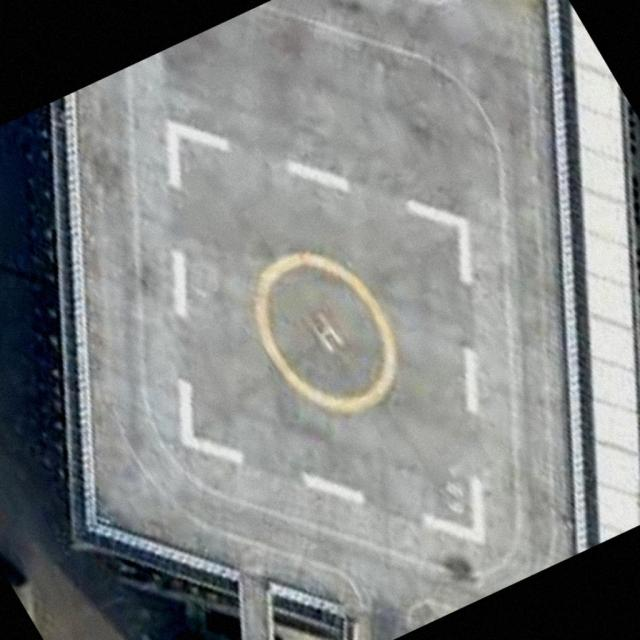helipad: (246, 248, 399, 416)
